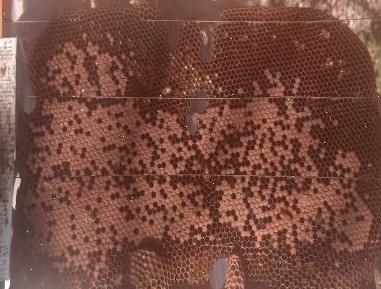cria: (21, 39, 372, 277)
